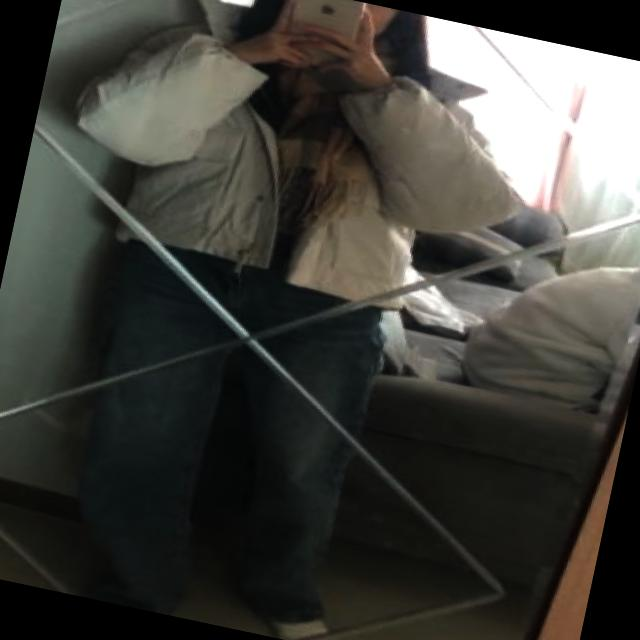denimpants: (45, 226, 393, 640)
padding: (52, 0, 535, 327)
